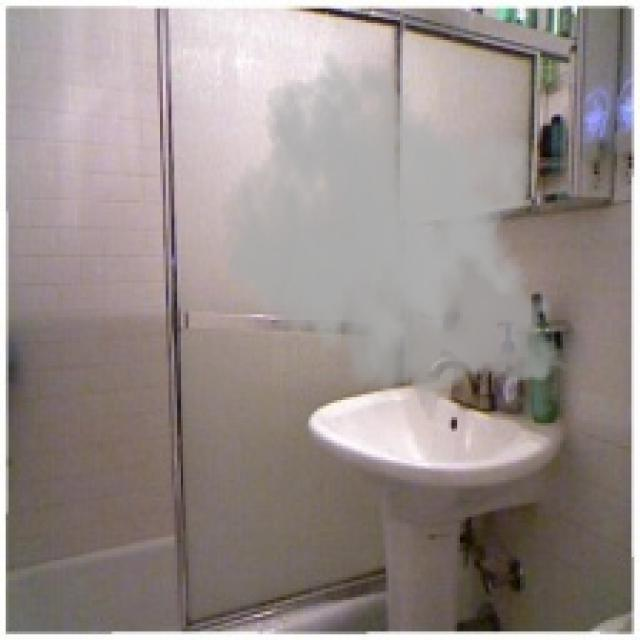Smoke: (220, 48, 574, 406)
